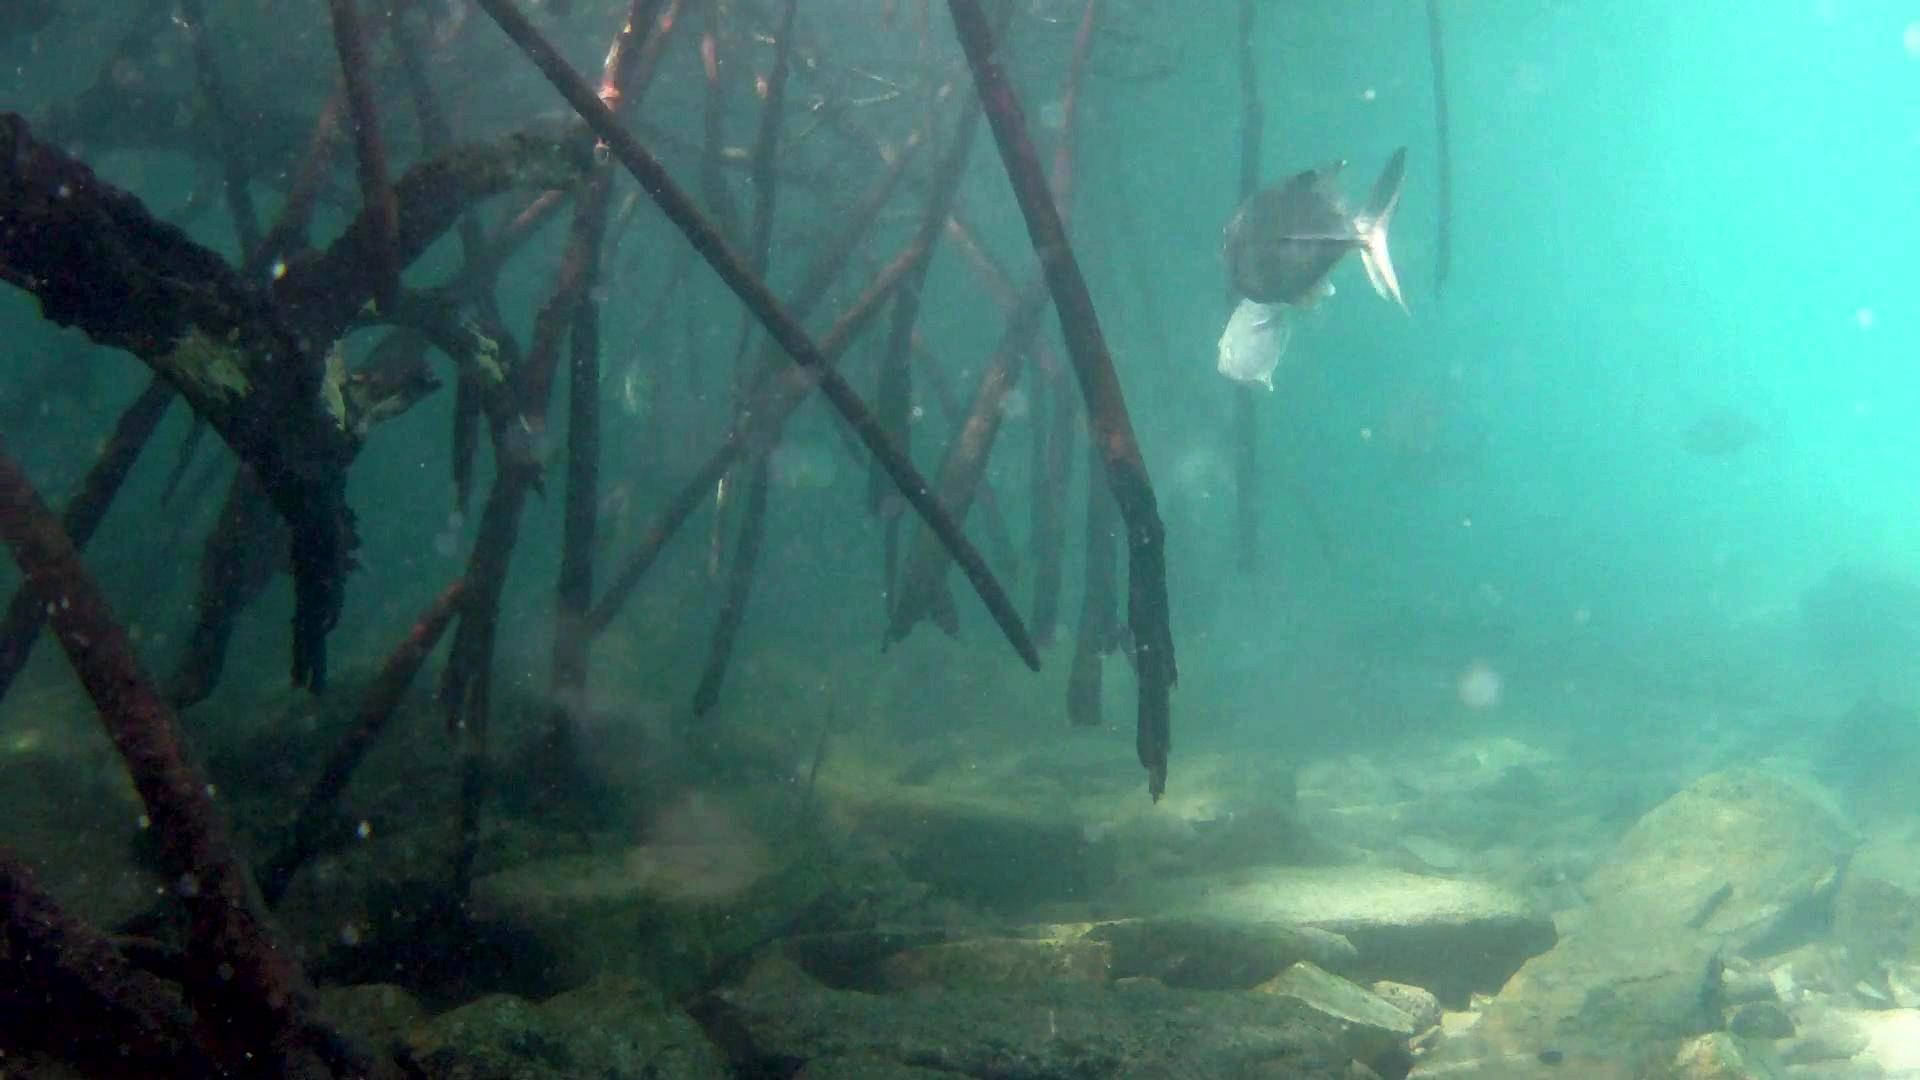caranx: (1208, 128, 1432, 326)
